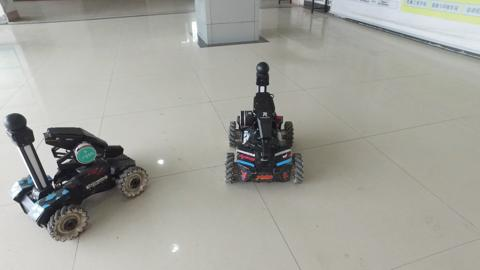chariot: (2, 106, 156, 239), (218, 55, 304, 187)
